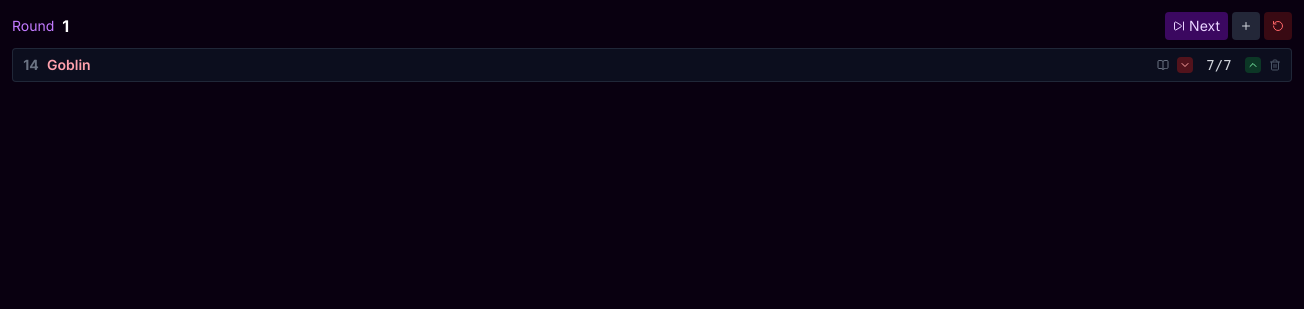
Test case: InitiativeWidget stat-block panel › collapses again on a second click
The image size is (1304, 309).
What coordinates should you click on to do the following:
click the button named "Show attacks and spells for Goblin"
I would click on:
 (1163, 65)
Its box is [1155, 57, 1171, 73].
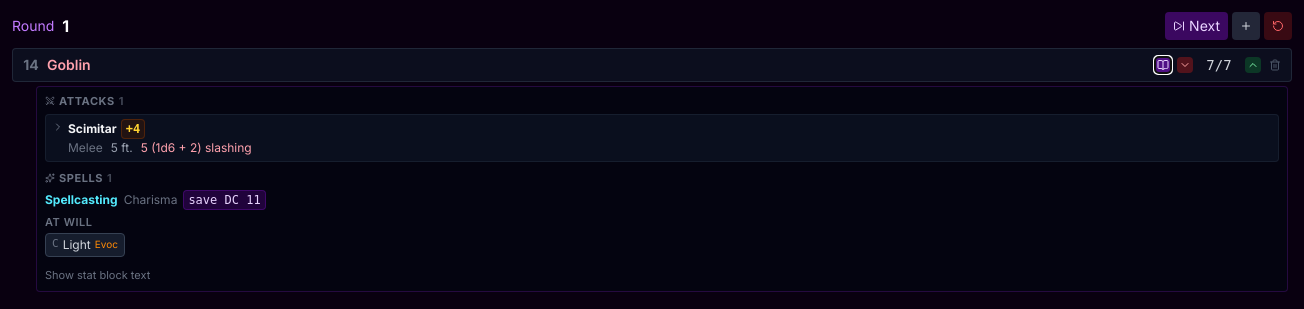
Result: the text "5 (1d6 + 2) slashing" is shown at [141, 138, 252, 156]
What coordinates should you click on to do the following:
click the button named "Hide attacks and spells for Goblin"
I would click on:
 (1163, 65)
Its box is [1155, 57, 1171, 73].
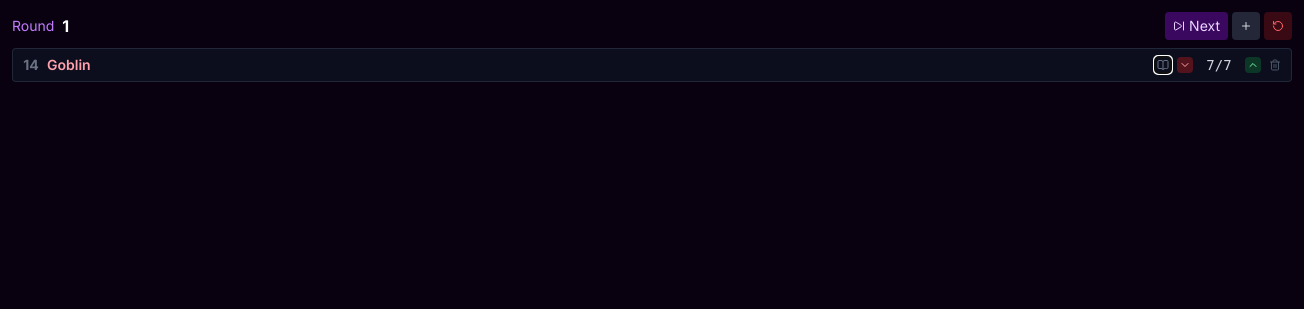
Result: the button "5 (1d6 + 2) slashing" is gone
